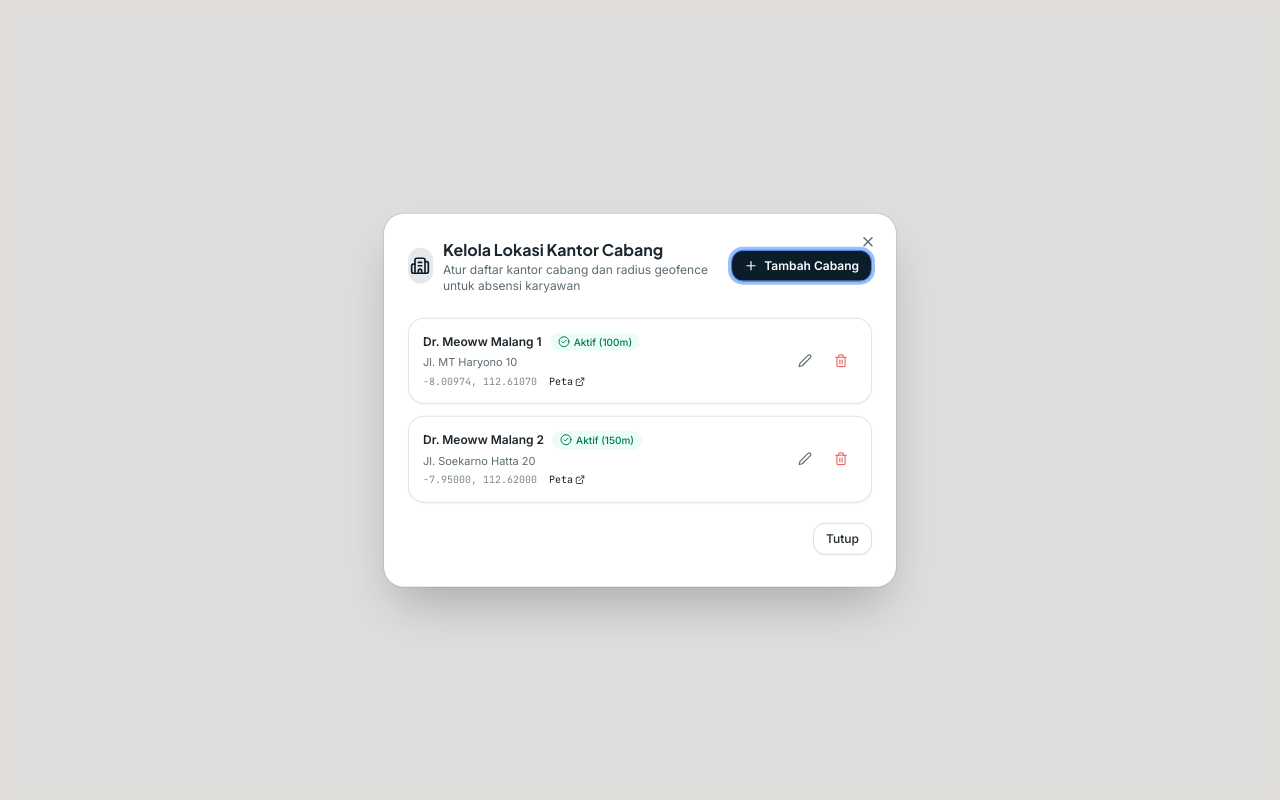
BranchManagementModal Component › auto-fills latitude and longitude when raw coordinates are pasted into quick input
This screenshot has width=1280, height=800.
Click the button "Tambah Cabang" at (802, 266), box [731,250,872,282]
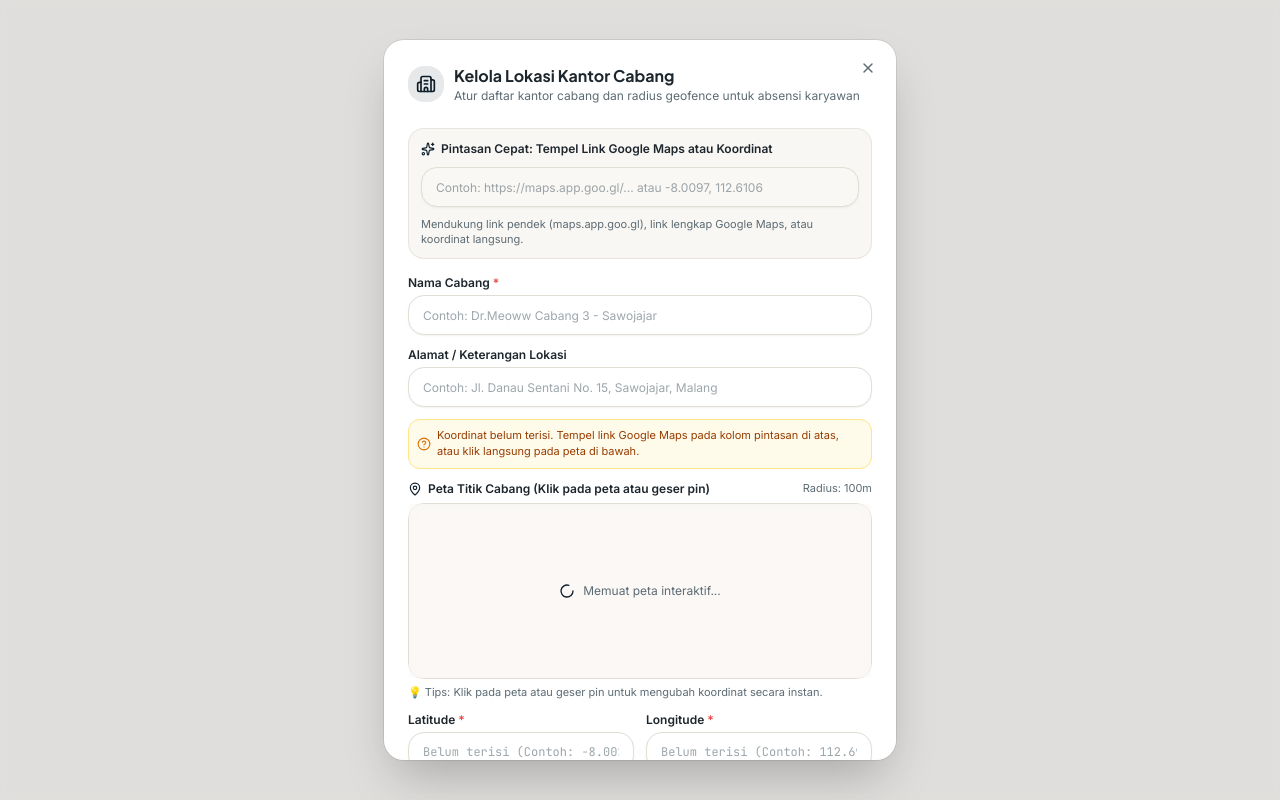
Type "-8.0027589, 112.6997836" into the field with placeholder "Contoh: https://maps.app.goo.gl/... atau -8.0097, 112.6106" at (640, 187), box [421,167,859,207]
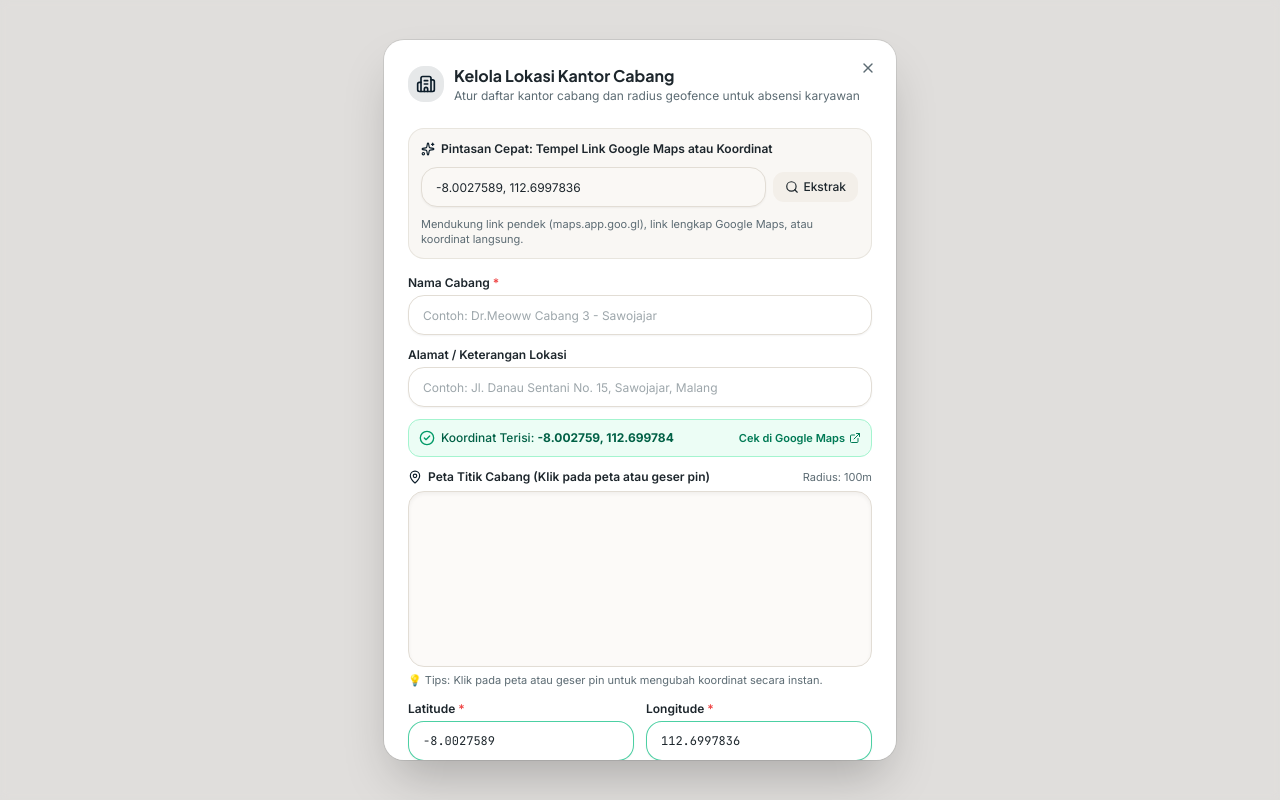
Now the field labelled "Latitude *" holds "-8.0027589", box [408,721,634,760]
Now the field labelled "Longitude *" holds "112.6997836", box [646,721,872,760]
Now the text "Koordinat Terisi: -8.002759, 112.699784" is shown, box [441,430,674,446]
